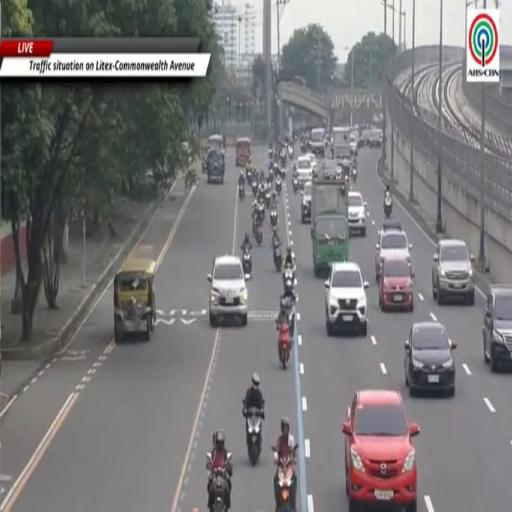car: (343, 390, 419, 511), (405, 322, 456, 396), (325, 262, 368, 335), (208, 255, 250, 326), (432, 239, 474, 305), (483, 285, 511, 372), (375, 221, 412, 280), (379, 258, 414, 311), (348, 191, 366, 236), (296, 156, 312, 187), (301, 182, 312, 223), (310, 128, 325, 156), (305, 153, 318, 177), (369, 130, 382, 148), (359, 129, 371, 147), (350, 131, 358, 155)
jeepney: (114, 258, 155, 342), (236, 137, 251, 167)
motorcycle: (207, 454, 227, 511), (277, 455, 293, 511), (246, 408, 261, 466), (281, 298, 295, 338), (278, 323, 290, 369), (273, 245, 282, 272), (243, 247, 251, 276), (283, 267, 294, 286), (255, 222, 263, 246), (384, 195, 392, 218), (258, 197, 265, 221), (270, 210, 278, 227), (264, 191, 271, 209), (246, 168, 253, 185), (276, 176, 282, 195), (280, 150, 286, 168), (340, 179, 346, 196), (239, 184, 245, 201), (335, 167, 342, 181), (292, 178, 298, 194), (252, 180, 257, 197), (269, 168, 274, 182), (280, 166, 285, 180), (352, 167, 357, 181), (268, 149, 273, 159), (289, 147, 293, 159)
truck: (311, 180, 349, 277), (332, 127, 350, 159)
